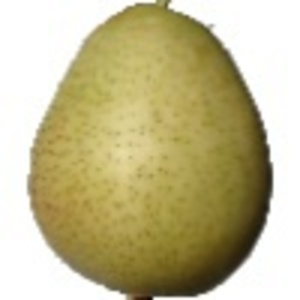pera: (27, 1, 274, 300)
